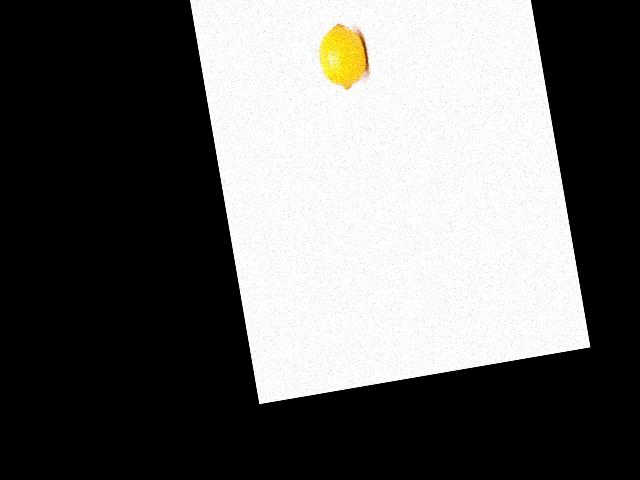lemon: (309, 13, 373, 100)
